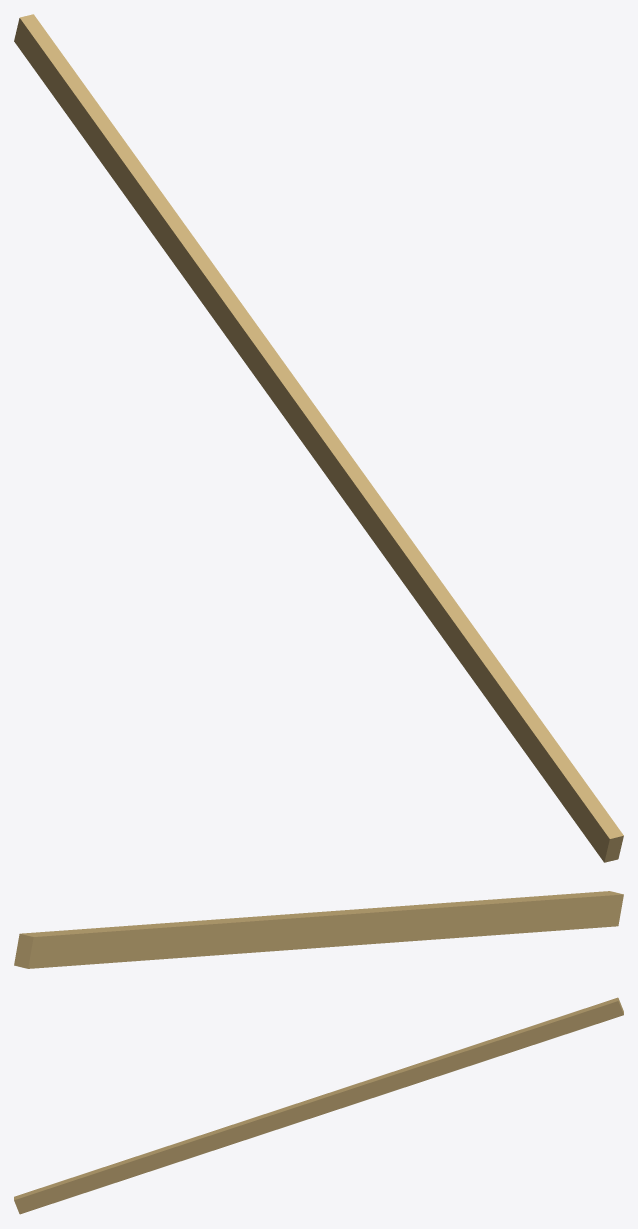
The picture shows the model from 3 angles, top to bottom: view 1: azimuth 30°, elevation 25°; view 2: azimuth 150°, elevation 25°; view 3: azimuth 270°, elevation 25°; orthographic projection. The views are drawn at different scales.
Parts seen in each view (by area): view 1: L1-3-S10-326-M01; view 2: L1-3-S10-326-M01; view 3: L1-3-S10-326-M01.
Boxes of the visible parts, x1,y1,x2,y2 form: L1-3-S10-326-M01: [14, 14, 623, 862]; L1-3-S10-326-M01: [14, 891, 623, 968]; L1-3-S10-326-M01: [14, 997, 623, 1214].
Size of the model in its own units: 0.045 by 1.27 by 3.29.
